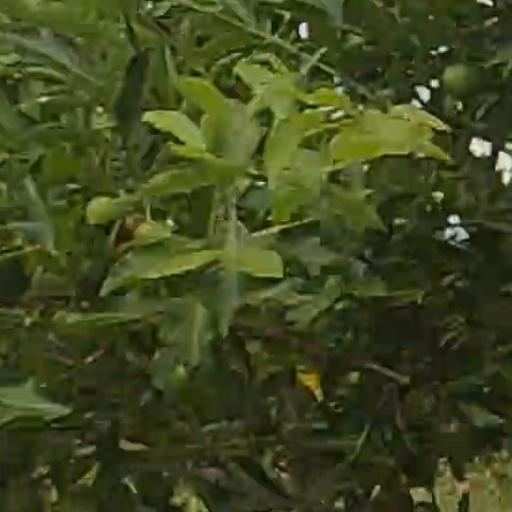acerola: (446, 65, 477, 99)
